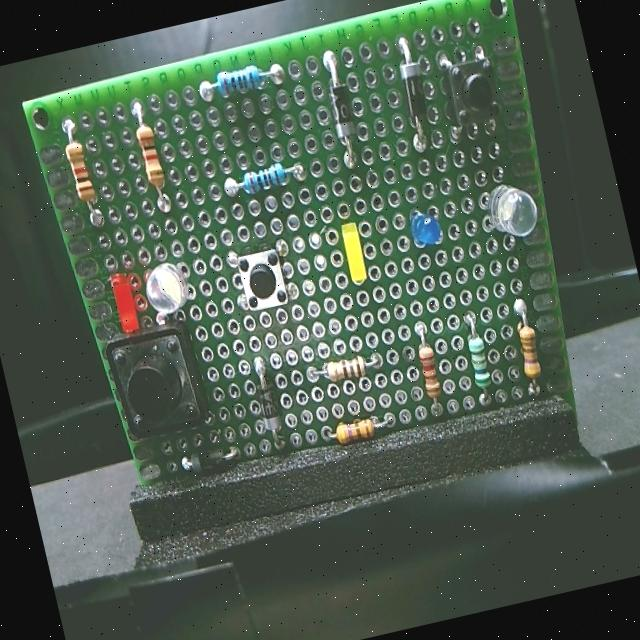diode: (165, 436, 248, 485), (242, 366, 300, 436), (319, 68, 367, 142), (390, 50, 436, 126)
led: (475, 178, 547, 249), (137, 250, 200, 322), (98, 257, 150, 338), (329, 214, 376, 298), (406, 206, 446, 249)
resistor: (124, 116, 174, 200), (233, 148, 299, 206), (208, 52, 280, 104), (454, 322, 500, 398), (312, 340, 380, 390), (319, 409, 389, 452), (506, 316, 549, 386), (61, 140, 101, 212), (412, 331, 452, 396)
switch: (98, 318, 212, 446), (228, 239, 300, 325), (438, 49, 512, 129)
